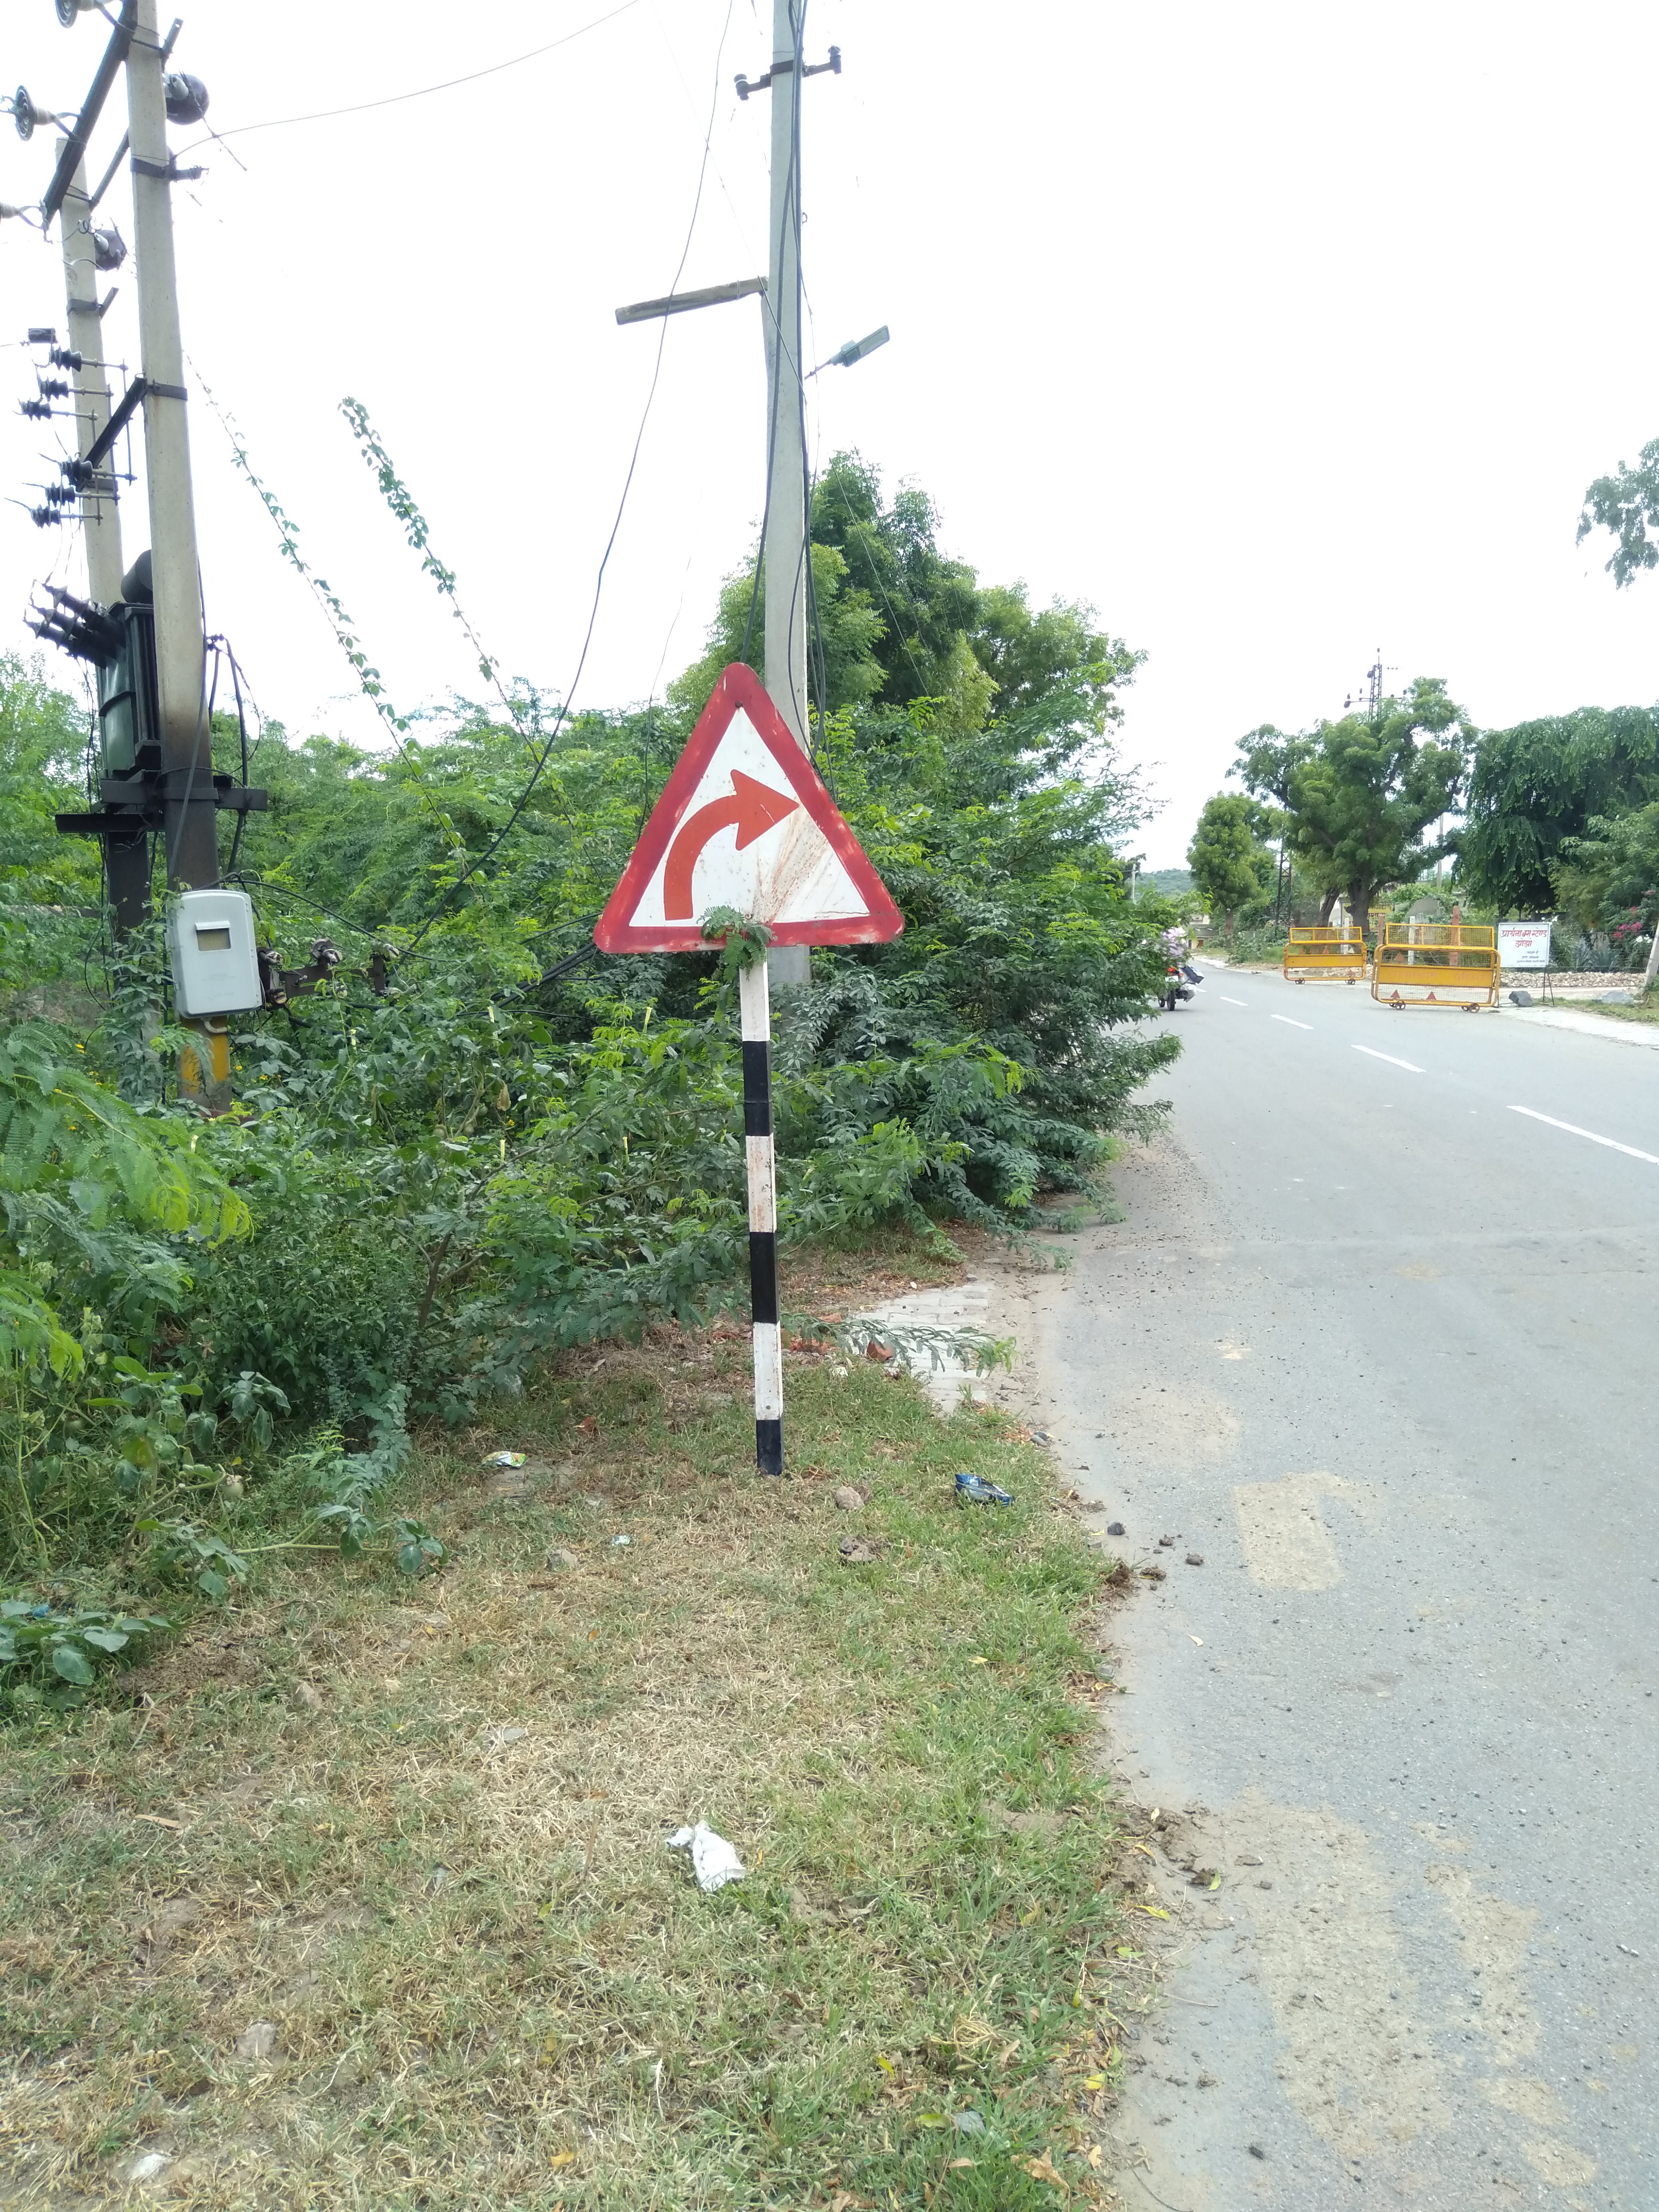traffic_sign: (596, 660, 901, 958)
